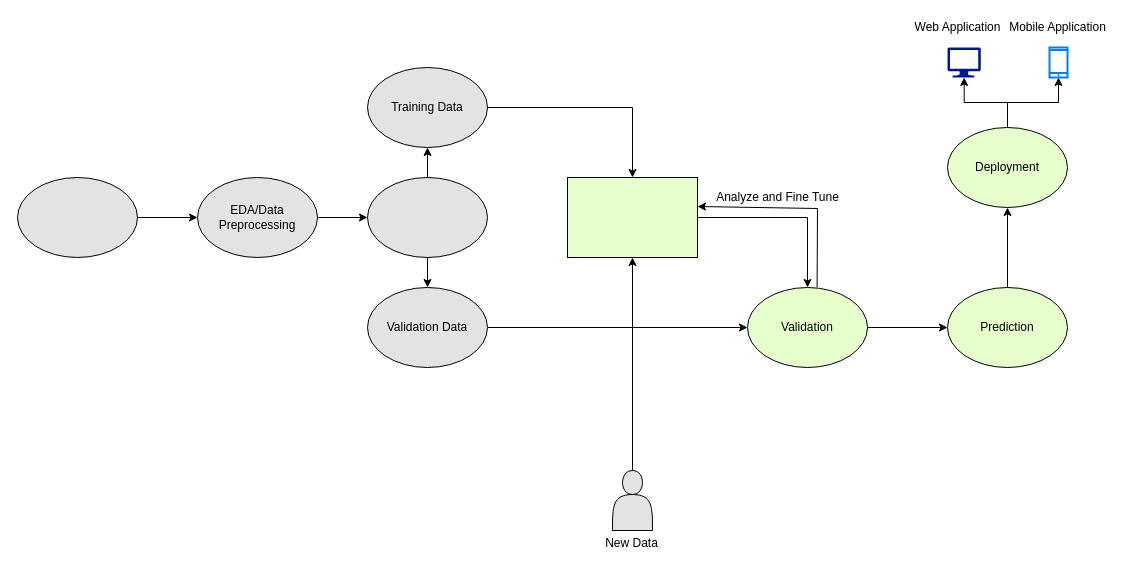
The diagram is 1130 pixels wide and 570 high, and some of its shapes have lost their labels. Here are the shapes that lost their labels. From the top down, the centre of each, then its label:
At point (77, 217): "Data Collection".
At point (427, 217): "Sampling".
At point (632, 217): "ML Model".
